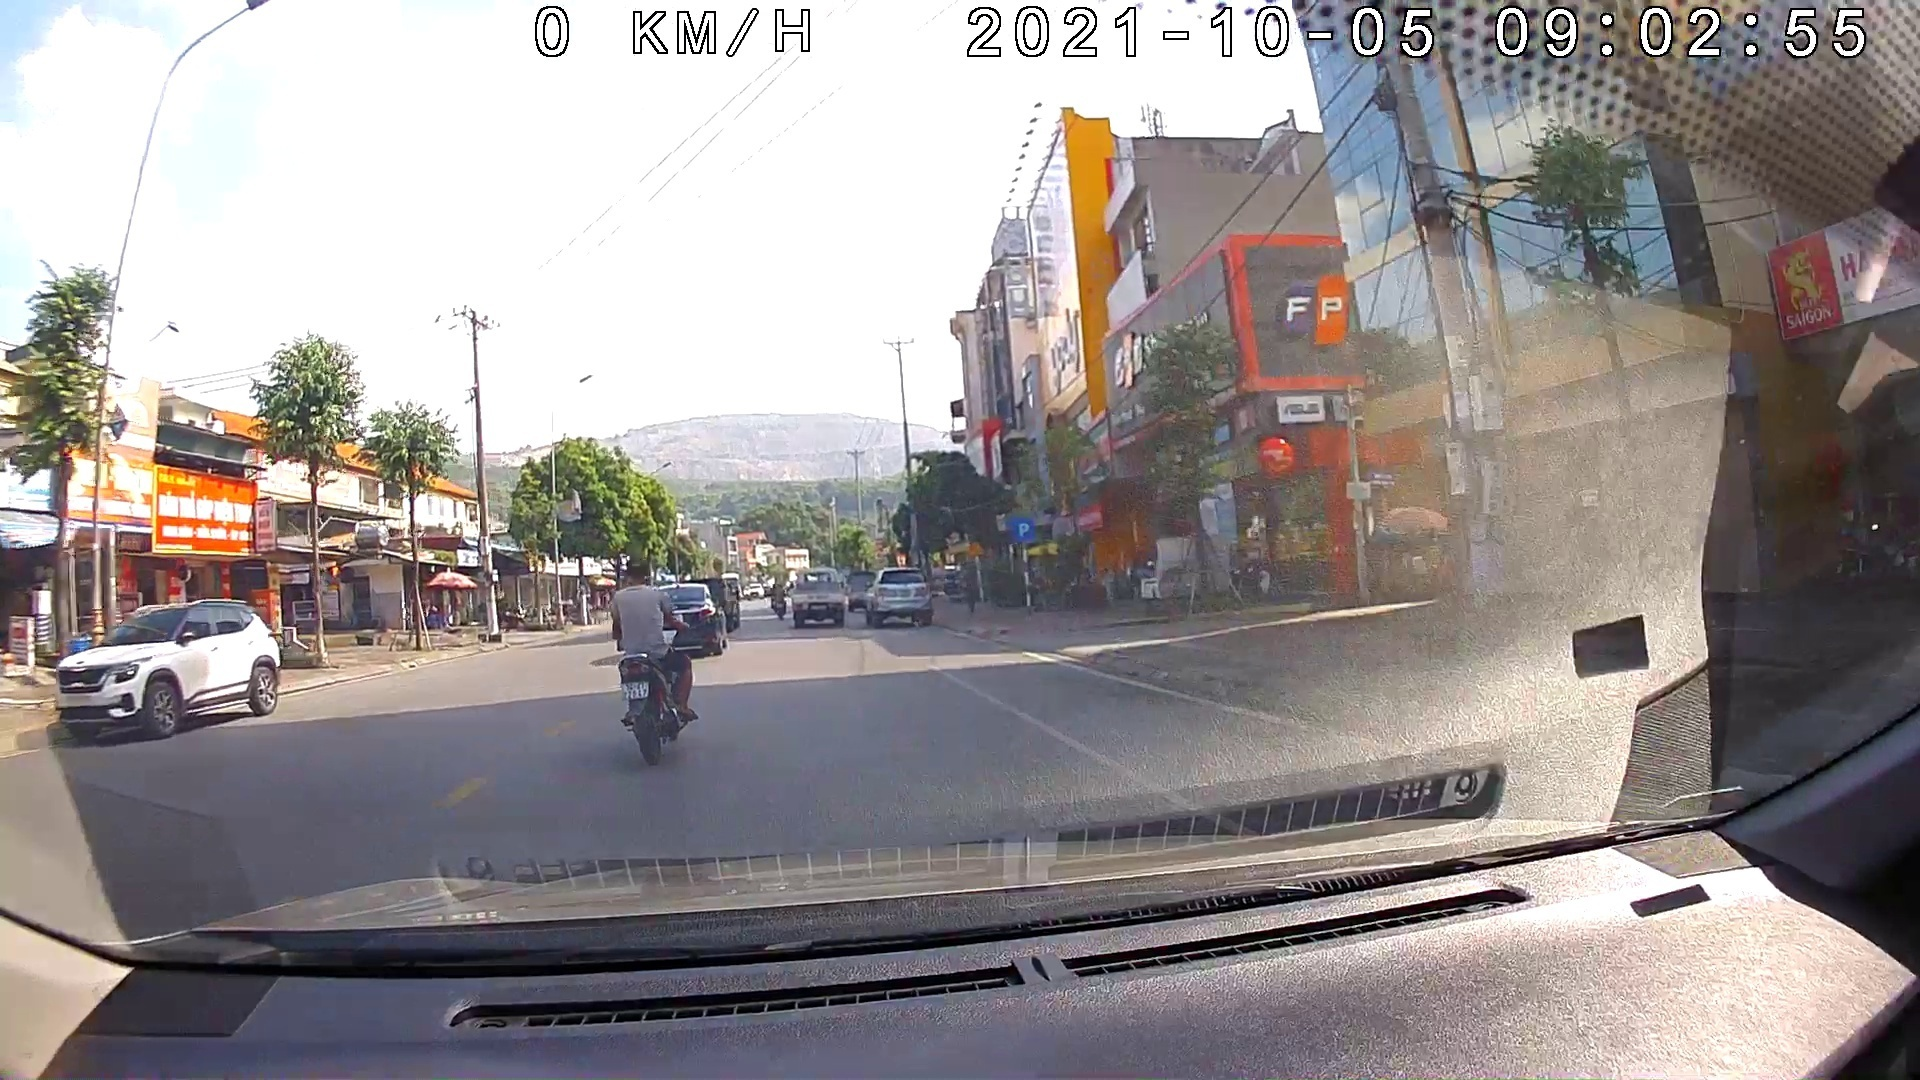Bien khac: (1011, 517, 1035, 541)
